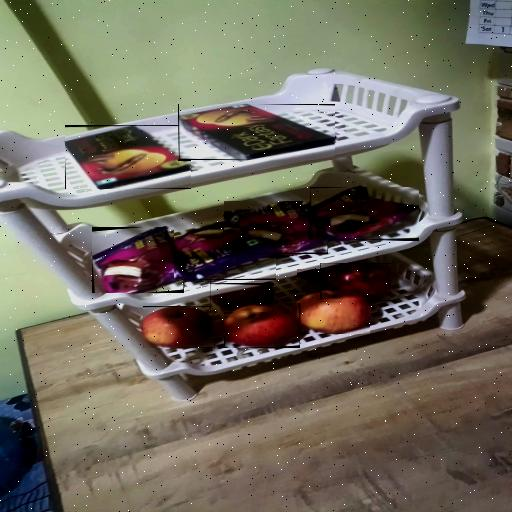Apple: (224, 303, 300, 348), (294, 291, 370, 334), (144, 306, 216, 348), (320, 264, 391, 302), (210, 283, 274, 312), (297, 270, 327, 284)
Choco Fills: (180, 104, 335, 160), (65, 126, 191, 189)
Choco Pie: (92, 227, 184, 293), (175, 222, 276, 280), (311, 188, 419, 240), (224, 201, 328, 254)
